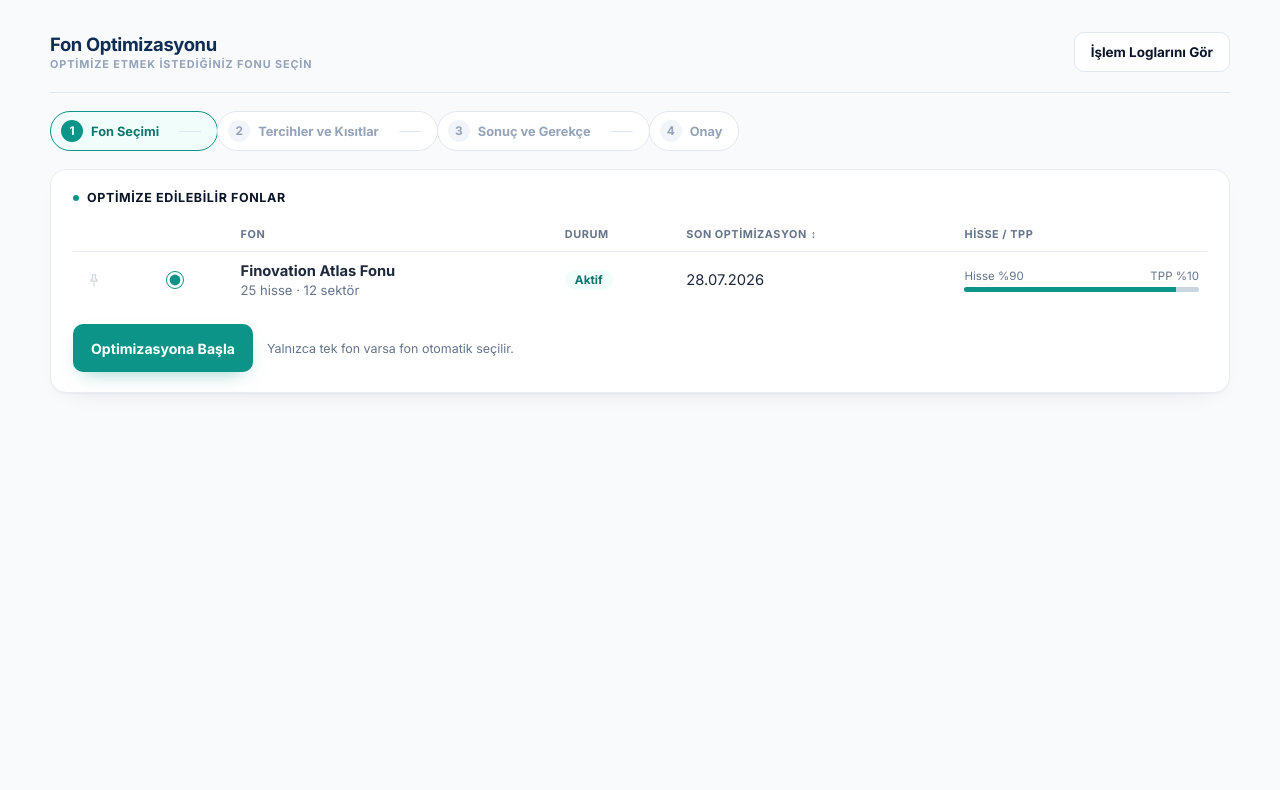
Scenario: OptimizationFormPage › C'de hariç tutulan hisse D'de görünmez, seçim kaldırılınca geri gelir
Click the button "Optimizasyona Başla" at (163, 348), box [73,324,253,372]
(page scrolled)
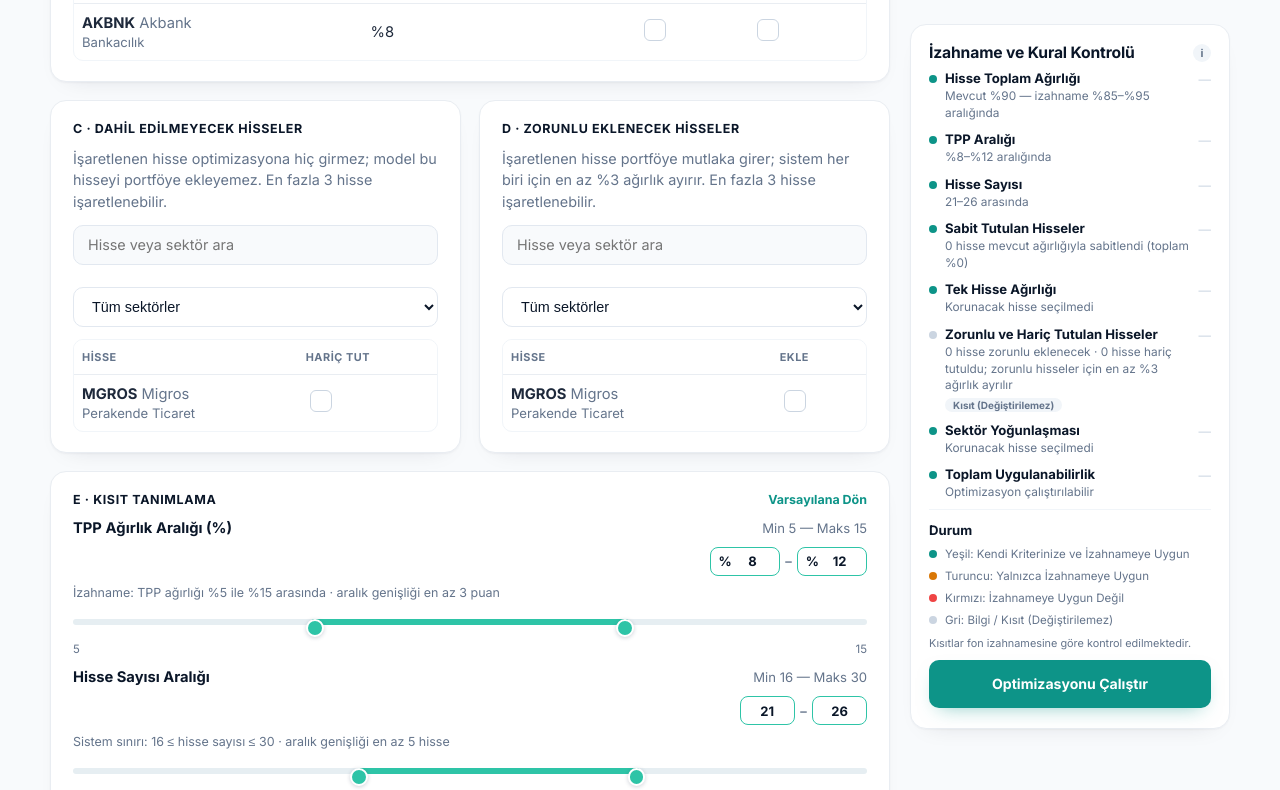
Check: the button "Optimizasyonu Çalıştır" is shown, box [929,660,1211,708]
Check: the checkbox named "MGROS hissesi için Ekle" is shown, box [784,390,806,412]
Click the checkbox named "MGROS hissesi için Hariç Tut" at (321, 400), box [310,390,332,412]
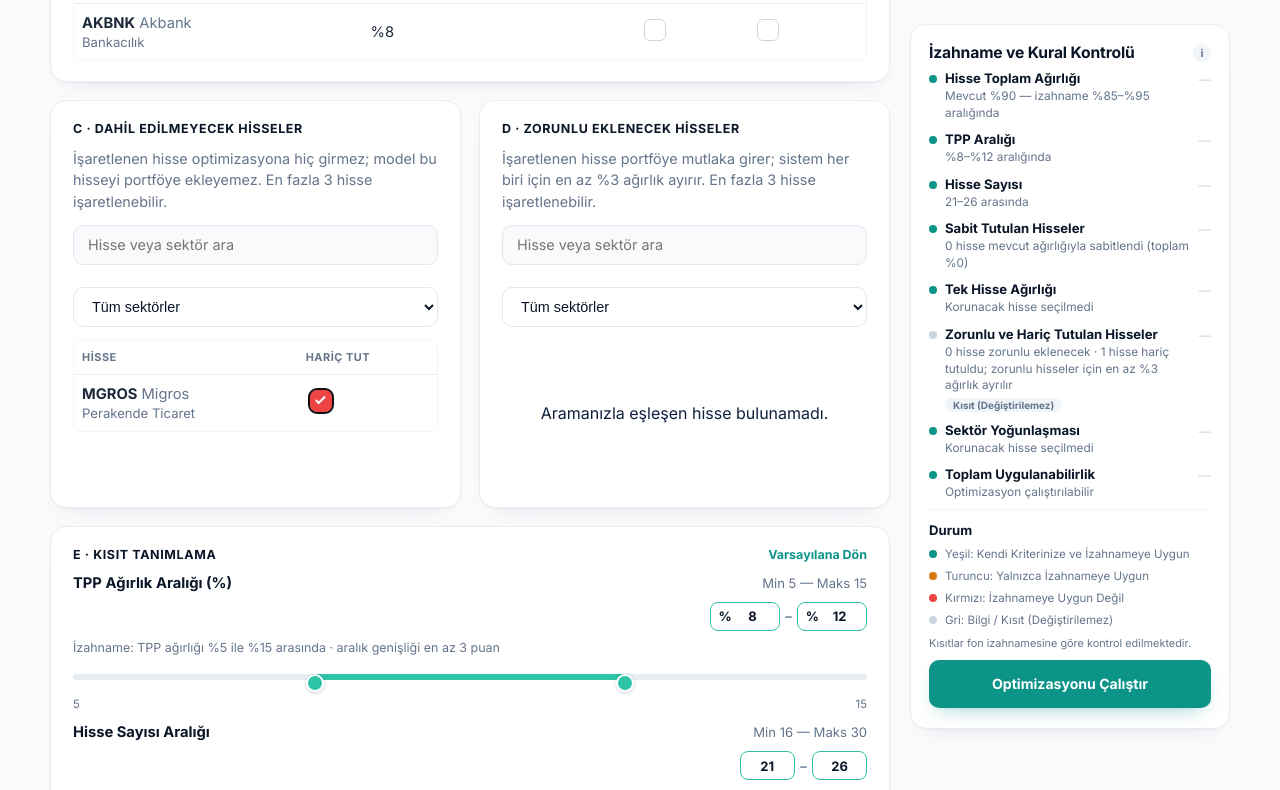
Click the checkbox named "MGROS hissesi için Hariç Tut" at (321, 400), box [310,390,332,412]
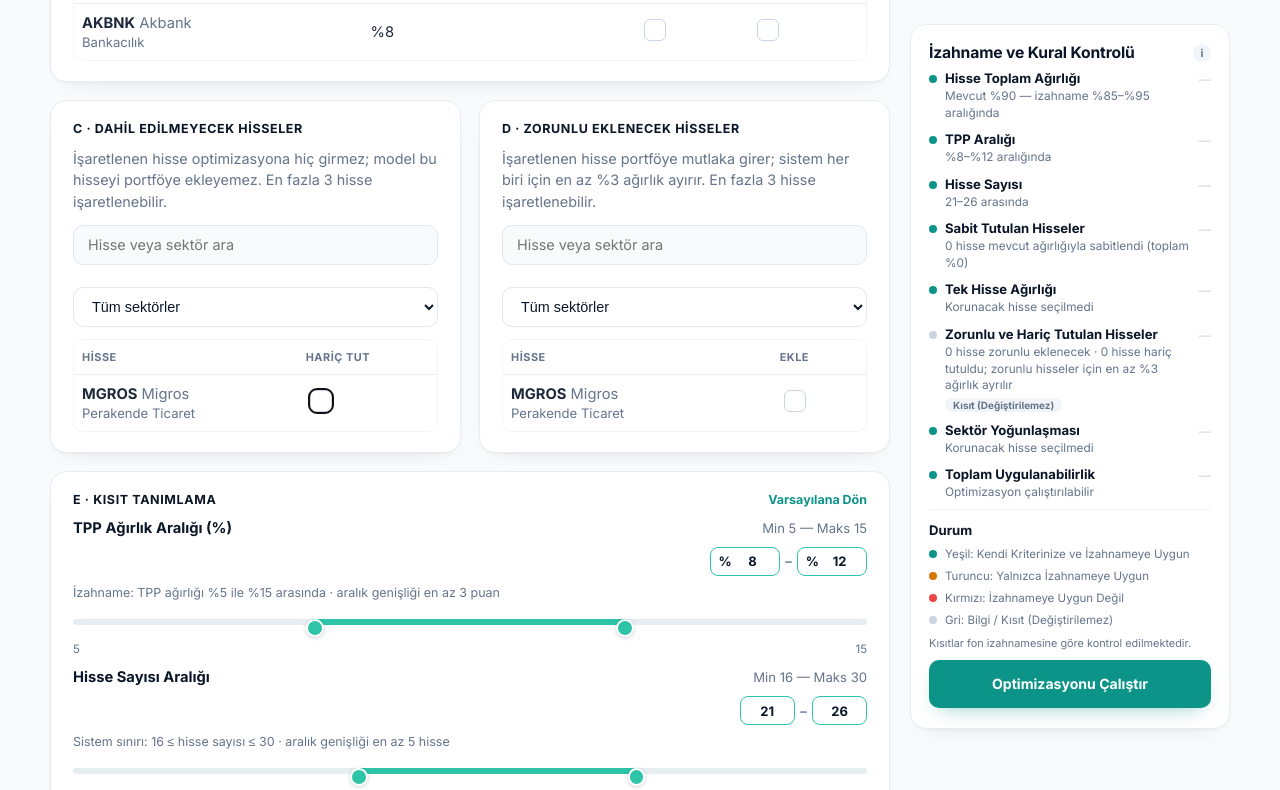
Check: the checkbox named "MGROS hissesi için Ekle" is not checked, box [784,390,806,412]
